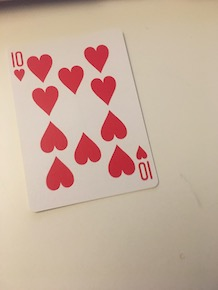TenOfHearts: (4, 26, 160, 212)
